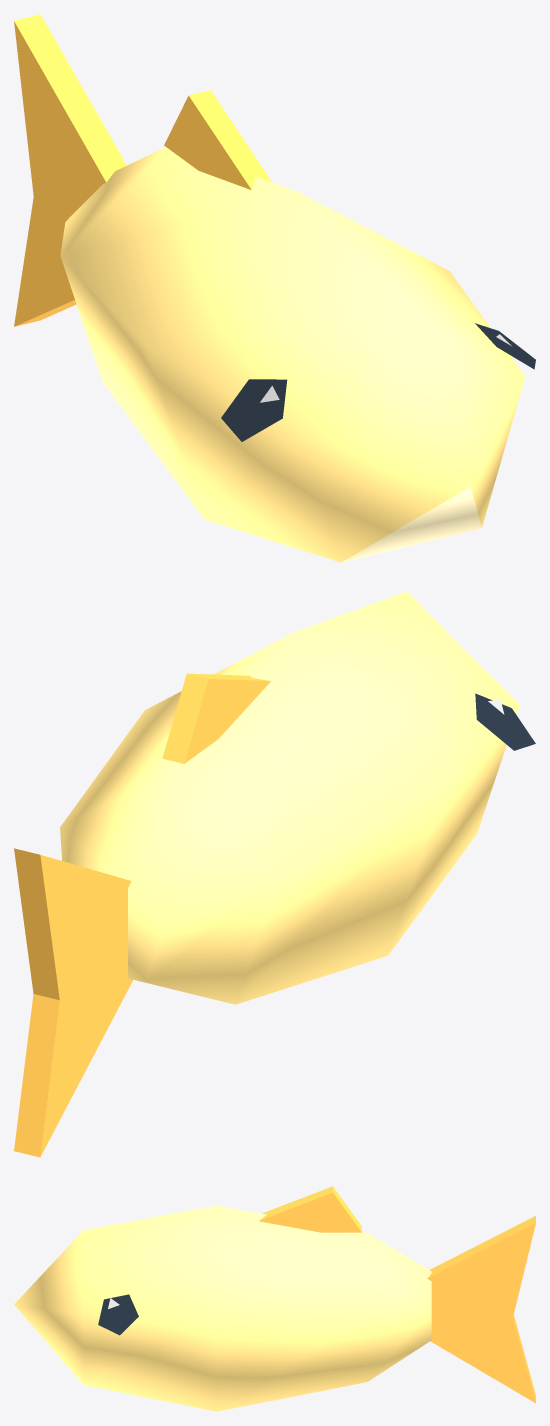
The model's file is fish-a.glb.
The picture shows the model from 3 angles, top to bottom: view 1: azimuth 30°, elevation 25°; view 2: azimuth 150°, elevation 25°; view 3: azimuth 270°, elevation 25°; orthographic projection. The views are drawn at different scales.
Parts seen in each view (by area): view 1: fish-a; view 2: fish-a; view 3: fish-a.
Part boxes in pixels (x1=…): fish-a: x1=14, y1=14, x2=535, y2=562; fish-a: x1=14, y1=591, x2=535, y2=1157; fish-a: x1=14, y1=1186, x2=535, y2=1411.
Bounding box in the file's own units: 0.36 × 0.4 × 0.9.
